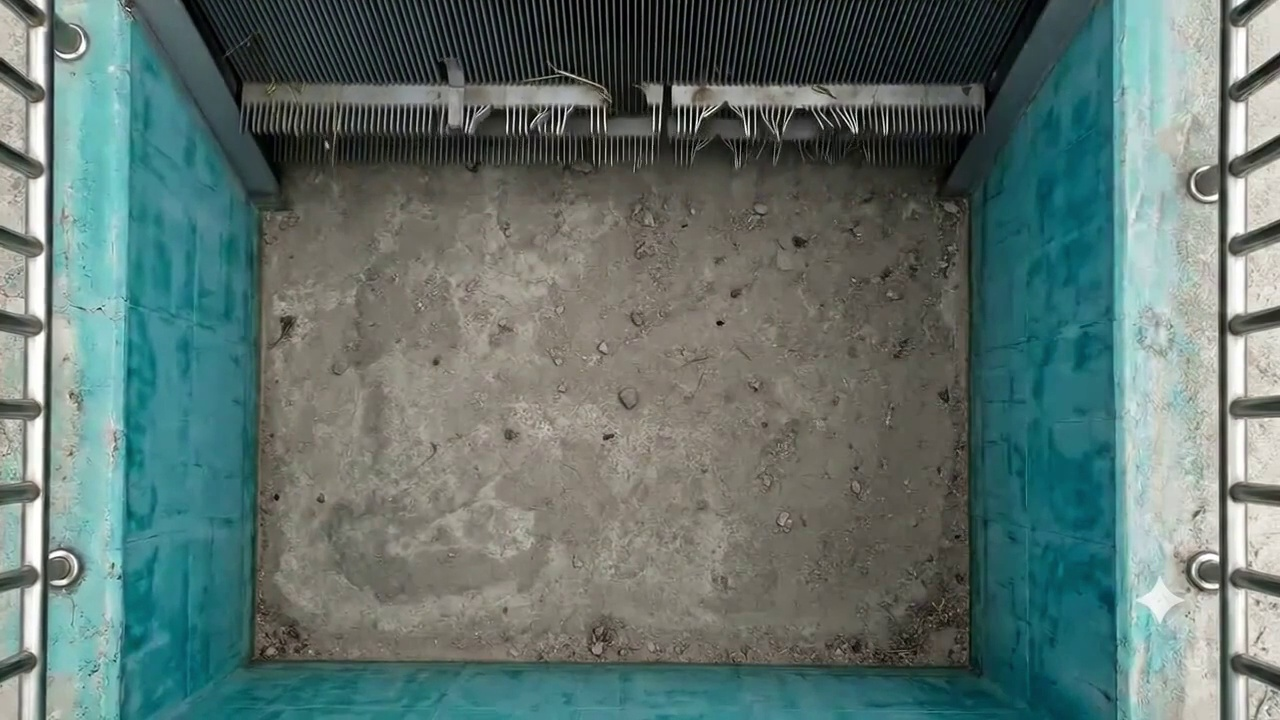damage: (619, 85, 886, 140), (626, 144, 881, 173), (435, 102, 616, 141)
